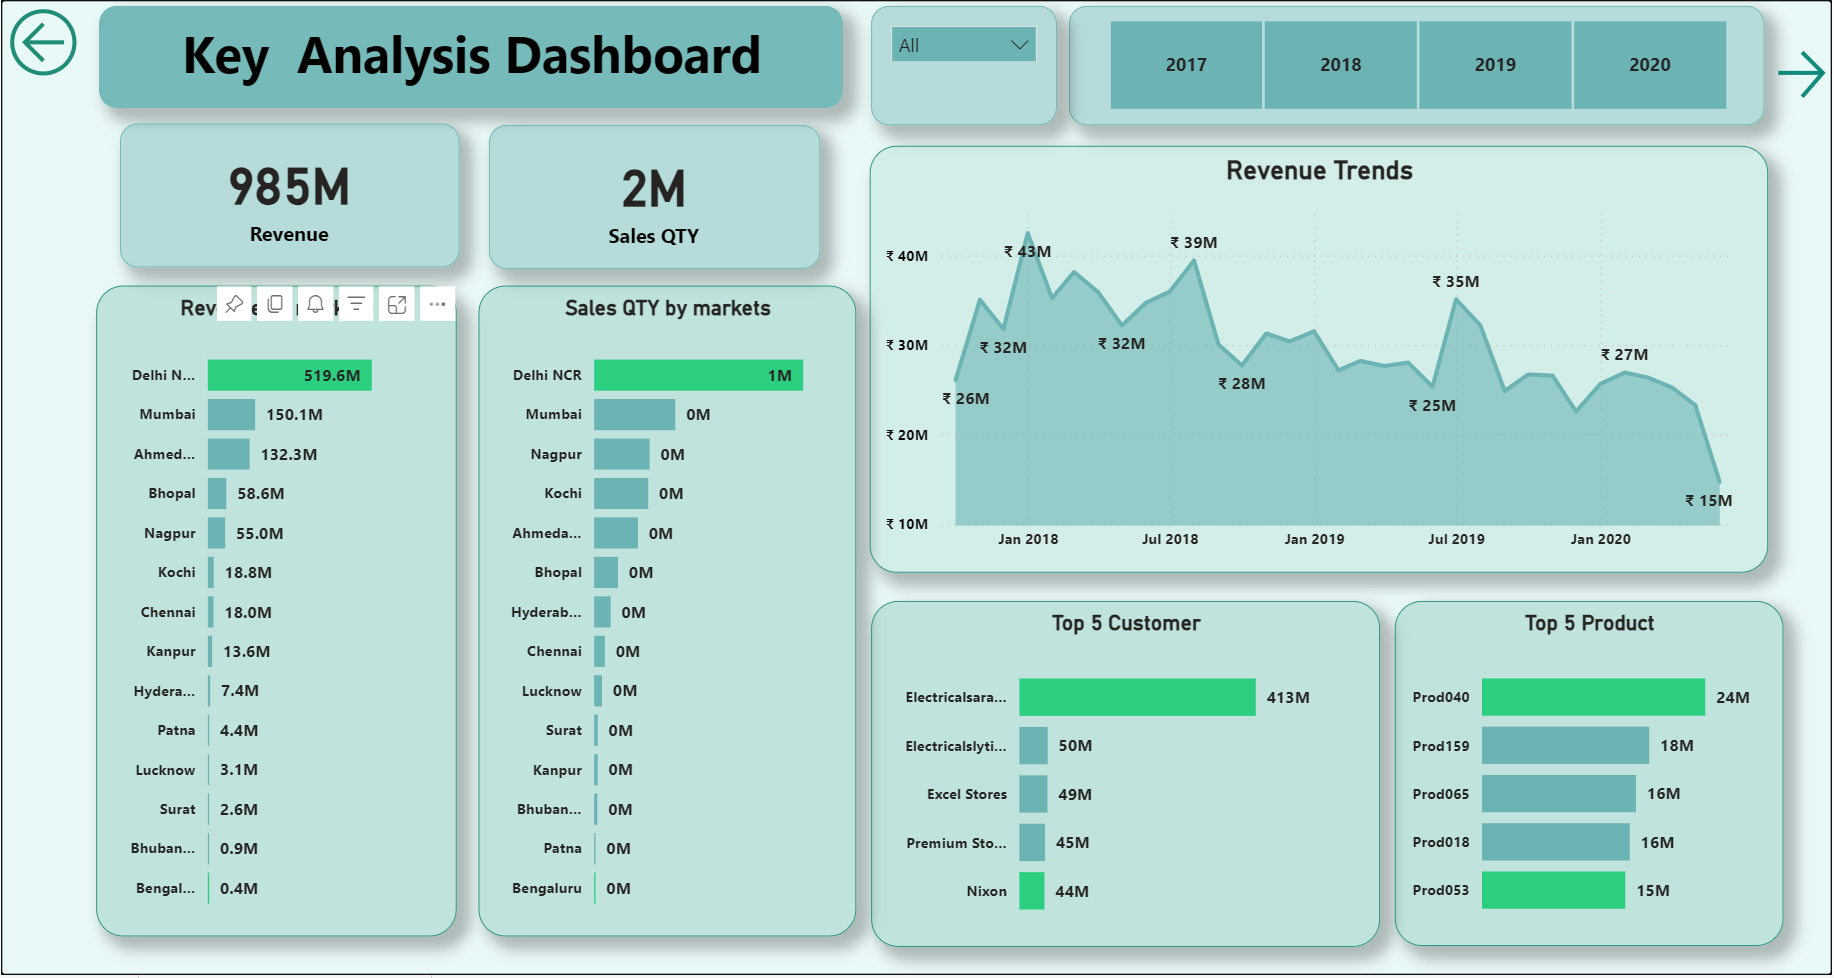

What the dashboard file says about the page in this screenshot:
{"tool":"powerbi","page":{"name":"Key insight","canvas":[1352,720],"ordinal":1},"visuals":[{"type":"slicer","fields":{"Values":["sales date.year"]},"box":[788.9,4.6,513.8,88.2],"z":0},{"type":"card","title":"Revenue","fields":{"Values":["Basemeasure.Revenue"]},"box":[88.1,91.2,250.8,106.4],"z":0,"group":"g1"},{"type":"slicer","fields":{"Values":["sales date.cy_date"]},"box":[643,4.6,136.8,88.2],"z":1000},{"type":"card","title":"Sales Qty","fields":{"Values":["Basemeasure.Sales QTY"]},"box":[360.2,92.7,244.7,106.4],"z":1000,"group":"g1"},{"type":"actionButton","box":[0,0,76.9,62.5],"z":2000},{"type":"clusteredBarChart","title":"Revenue by markets","fields":{"Y":["Basemeasure.Revenue"],"Category":["sales markets.markets_name"]},"box":[71.4,209.8,266,489.5],"z":2000,"group":"g1"},{"type":"textbox","box":[72.1,4.8,549.5,75.3],"z":3000},{"type":"clusteredBarChart","title":"Sales QTY by markets","fields":{"Y":["Basemeasure.Sales QTY"],"Category":["sales markets.markets_name"]},"box":[354.1,209.8,278.2,489.5],"z":3000,"group":"g1"},{"type":"actionButton","box":[1305.8,27.4,45.6,54.7],"z":4000},{"type":"group","id":"g1","title":"Group 1","box":[71.4,91.2,1245.5,608],"z":5000},{"type":"clusteredBarChart","title":"Top 5 Customer","fields":{"Y":["Basemeasure.Revenue"],"Category":["sales customers.custmer_name"]},"box":[643,443.9,375.5,255.4],"z":6000,"group":"g1"},{"type":"clusteredBarChart","title":"Top 5 Product","fields":{"Y":["Basemeasure.Revenue"],"Category":["sales products.product_code"]},"box":[1030.1,443.8,286.8,254.7],"z":7000,"group":"g1"},{"type":"lineChart","title":"Revenue Trends","fields":{"Y":["Basemeasure.Revenue"],"Category":["sales date.cy_date"]},"box":[642.4,107.3,663.3,315.6],"z":8000,"group":"g1"}]}

Visuals, with their boxes in screenshot pixels (x1, y1, x2, y2), scaled from the page's 1352x720 canvas onto the 1834x978 screenshot:
slicer - sales date.year: bbox=[1070, 6, 1767, 126]
"Revenue" card: bbox=[120, 124, 460, 268]
slicer - sales date.cy_date: bbox=[872, 6, 1058, 126]
"Sales Qty" card: bbox=[489, 126, 821, 270]
actionButton: bbox=[0, 0, 104, 85]
"Revenue by markets" clusteredBarChart: bbox=[97, 285, 458, 950]
textbox: bbox=[98, 7, 843, 109]
"Sales QTY by markets" clusteredBarChart: bbox=[480, 285, 858, 950]
actionButton: bbox=[1771, 37, 1833, 112]
"Group 1" group: bbox=[97, 124, 1786, 950]
"Top 5 Customer" clusteredBarChart: bbox=[872, 603, 1382, 950]
"Top 5 Product" clusteredBarChart: bbox=[1397, 603, 1786, 949]
"Revenue Trends" lineChart: bbox=[871, 146, 1771, 574]
